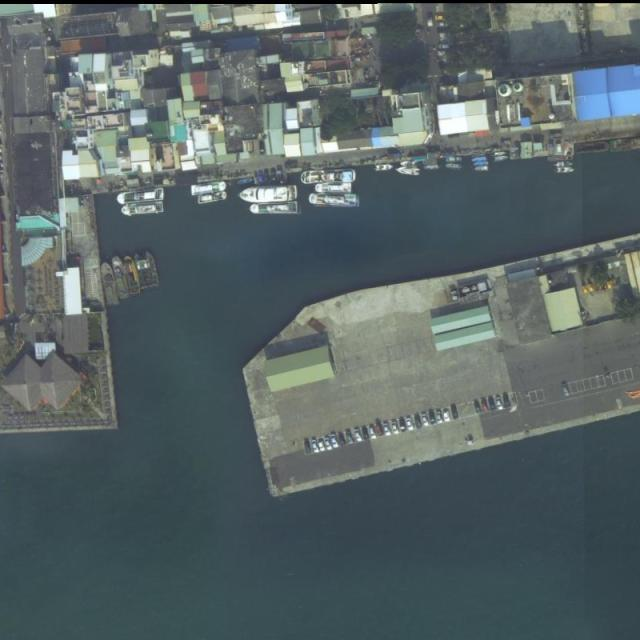vehicle: (361, 426, 372, 444), (323, 437, 334, 453), (495, 394, 504, 413), (382, 422, 393, 437), (354, 428, 364, 444), (318, 438, 327, 454), (337, 432, 346, 448), (390, 418, 399, 434), (310, 440, 320, 454), (420, 412, 430, 426), (502, 394, 512, 408), (345, 431, 354, 446), (413, 415, 422, 430), (398, 418, 406, 434), (406, 417, 414, 433), (482, 398, 490, 414), (367, 426, 376, 440), (330, 434, 338, 449), (452, 406, 460, 420), (474, 400, 482, 414), (488, 398, 496, 412), (562, 383, 570, 396), (436, 409, 442, 425), (442, 410, 450, 421), (429, 411, 435, 425)
